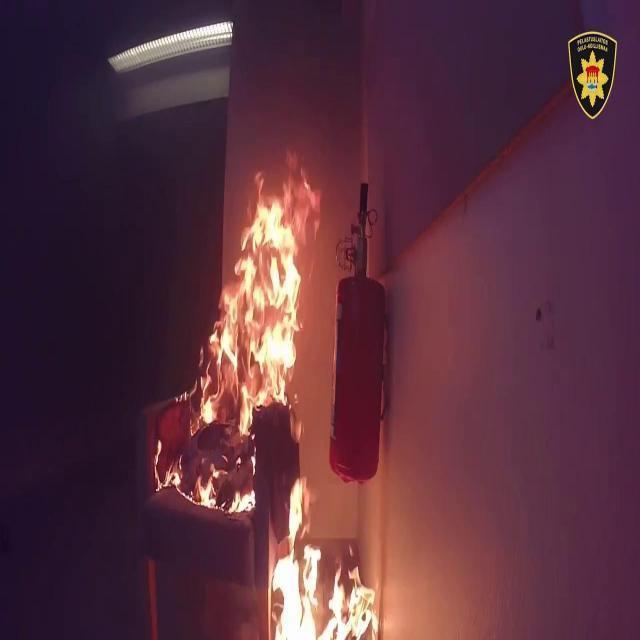smoke: (188, 146, 326, 438), (267, 480, 379, 640), (151, 438, 259, 514)
